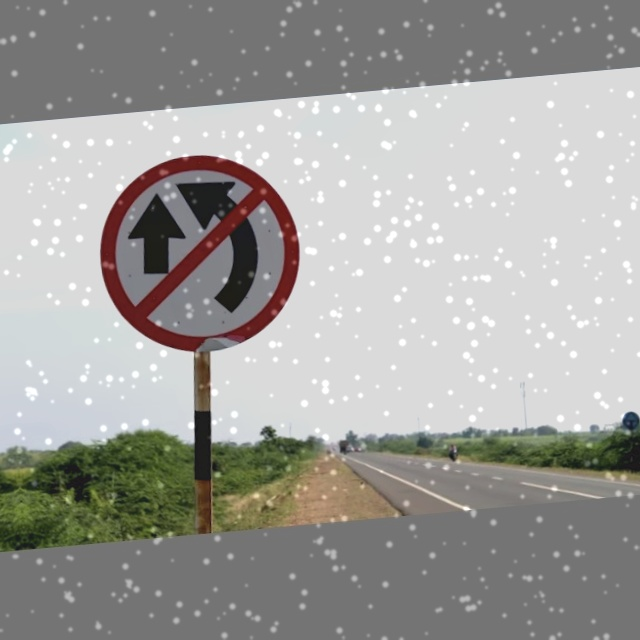Overtaking_Prohibited: (94, 146, 306, 362)
